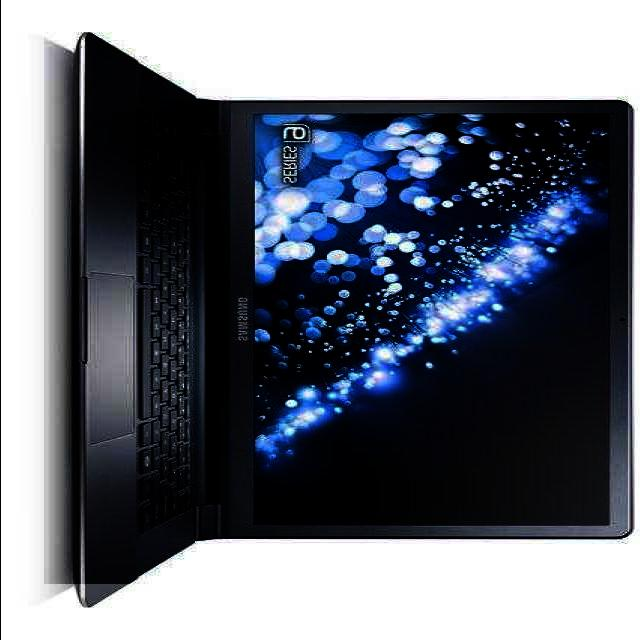-keyboard-: (44, 32, 628, 584)
